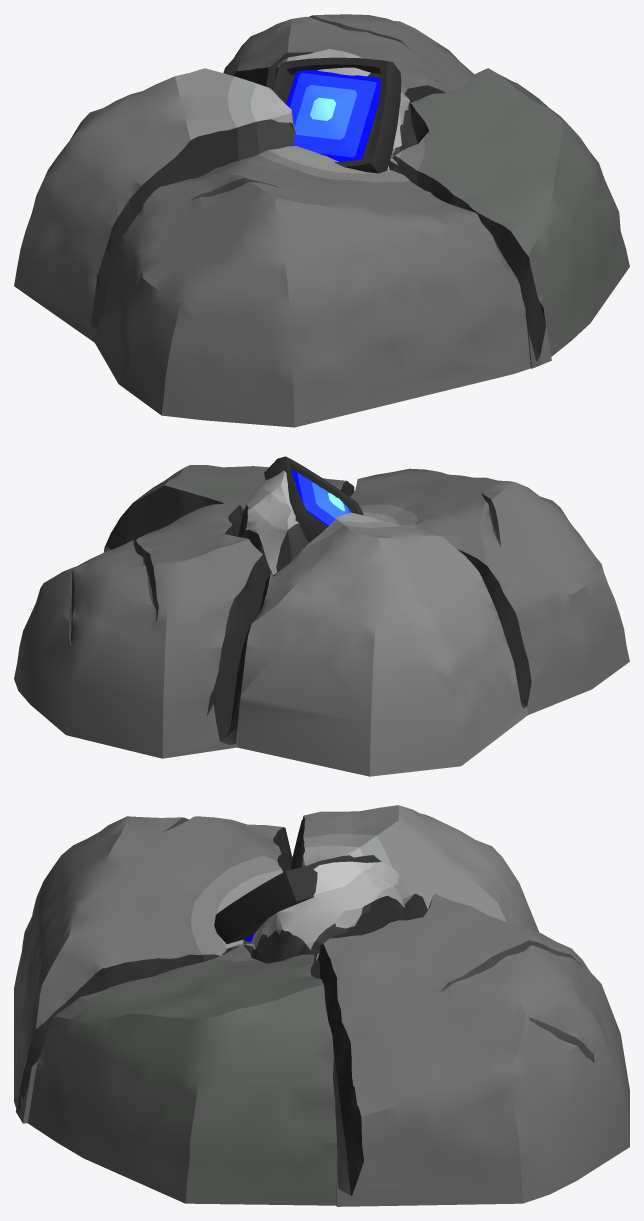
File: rock_blue_eye_233.glb
The picture shows the model from 3 angles, top to bottom: view 1: azimuth 30°, elevation 25°; view 2: azimuth 150°, elevation 25°; view 3: azimuth 270°, elevation 25°; orthographic projection. The views are drawn at different scales.
Parts seen in each view (by area): view 1: rock_blue_eye_233; view 2: rock_blue_eye_233; view 3: rock_blue_eye_233.
Boxes of the visible parts, <box> form: rock_blue_eye_233: <box>14,14,629,427</box>; rock_blue_eye_233: <box>14,456,629,776</box>; rock_blue_eye_233: <box>14,805,629,1206</box>.
Bounding box in the file's own units: 23.28 × 9.52 × 23.
